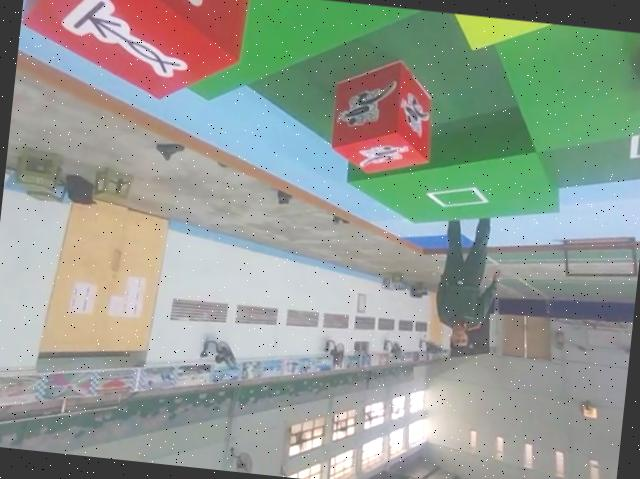R1: (321, 57, 444, 180)
R2 Real: (16, 0, 251, 106)
